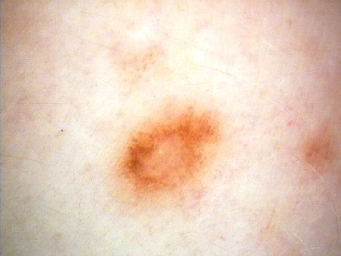melanoma: (123, 108, 220, 190)
